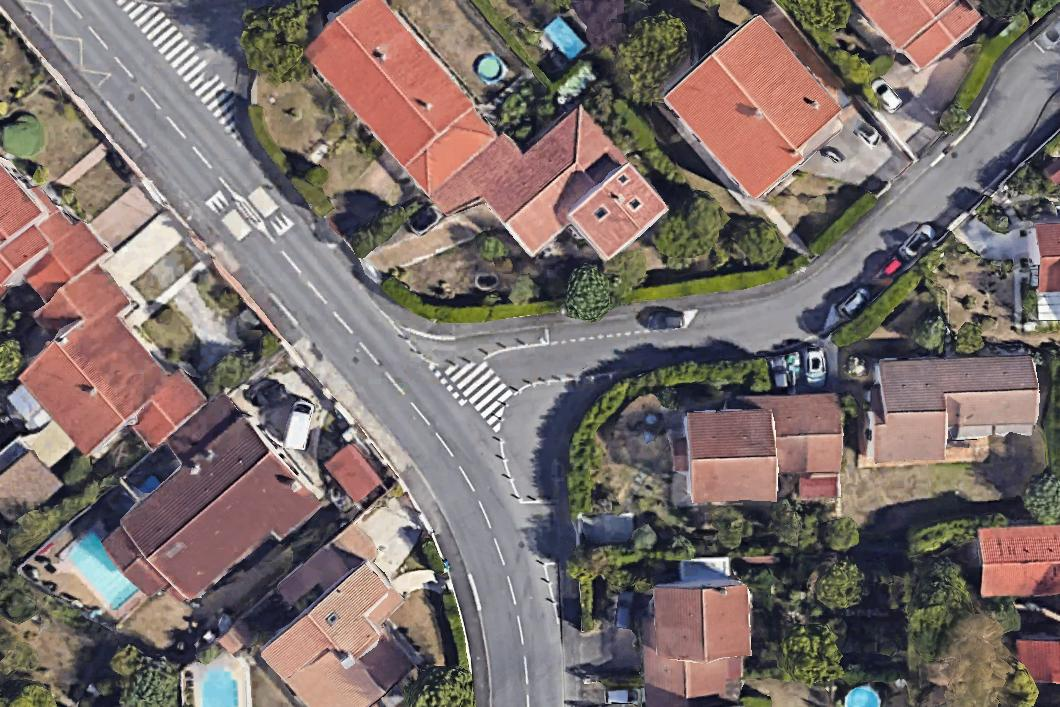maison: (75, 391, 323, 634), (429, 79, 671, 321), (0, 263, 208, 485), (298, 0, 502, 200), (659, 13, 851, 207), (258, 554, 442, 707), (855, 352, 1042, 465), (0, 164, 110, 323), (686, 395, 842, 502), (639, 577, 753, 707), (854, 0, 985, 77), (979, 525, 1060, 595), (1031, 223, 1059, 321)
